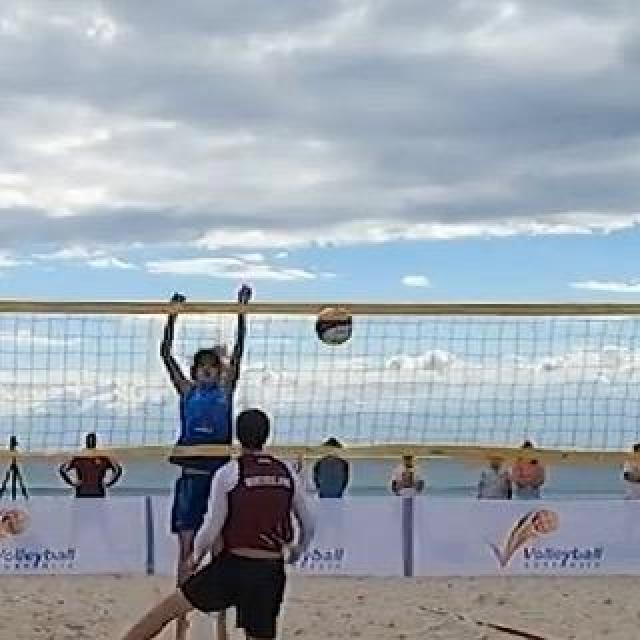volleyball: (316, 309, 350, 347)
